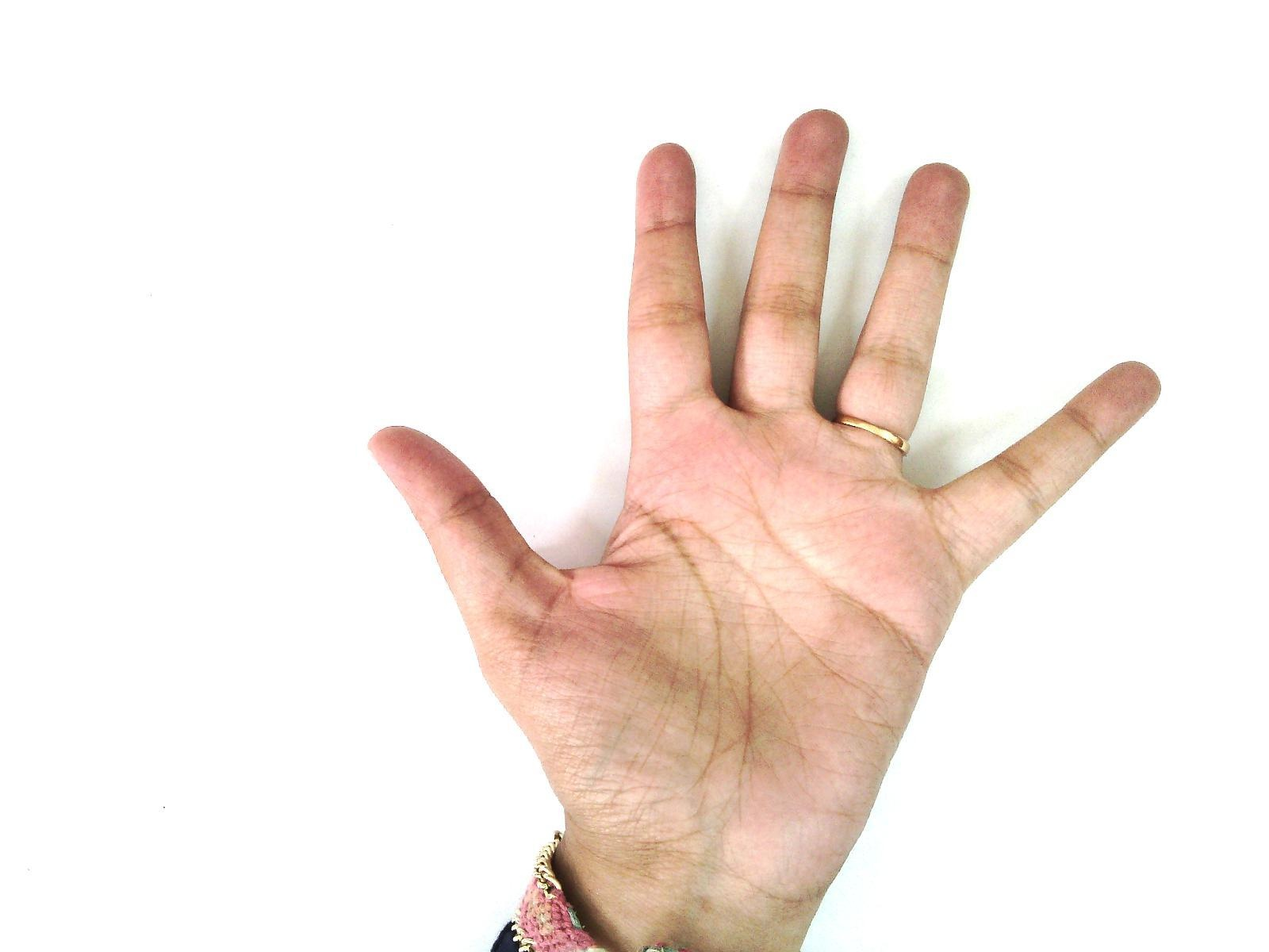open_palm: (366, 107, 1159, 896)
